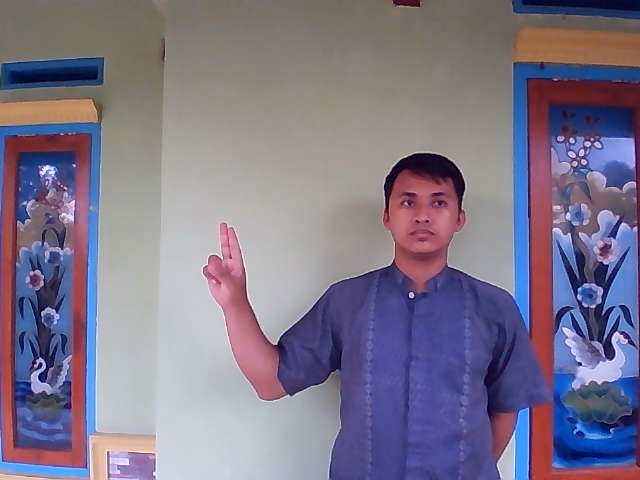U: (199, 219, 258, 317)
